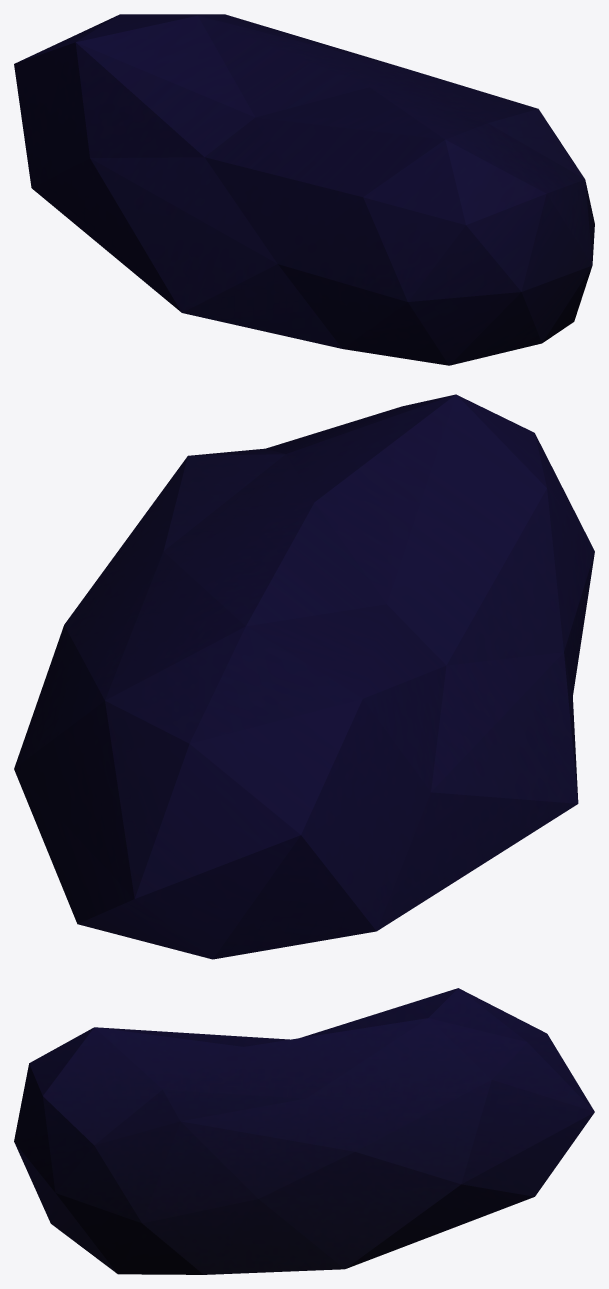
The model's file is SM_Rock06_Var2.fbx.
3 views of the same model, one above another, from view 1: azimuth 30°, elevation 25°; view 2: azimuth 150°, elevation 25°; view 3: azimuth 270°, elevation 25° (orthographic). The views are drawn at different scales.
Parts seen in each view (by area): view 1: MediumRock02.002; view 2: MediumRock02.002; view 3: MediumRock02.002.
Part boxes in pixels (x1,y1,x2,y2): MediumRock02.002: (14, 14, 594, 365); MediumRock02.002: (14, 394, 594, 959); MediumRock02.002: (14, 988, 594, 1274).
Bounding box in the file's own units: 216 × 136 × 367.
